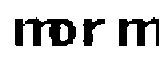m: (11, 14, 56, 51), (116, 13, 160, 48)
o: (50, 18, 77, 48)
r: (80, 15, 108, 48)
